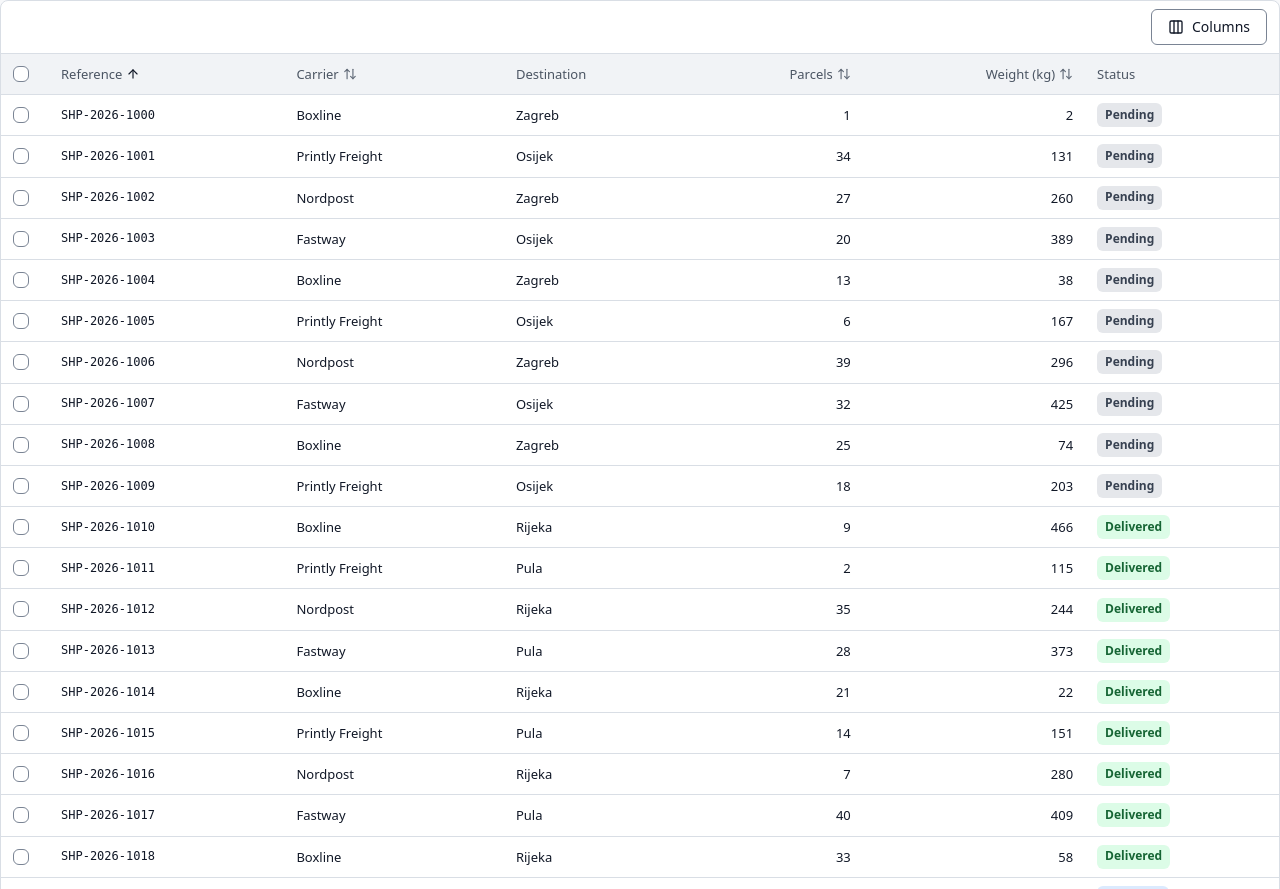
selection › labels each row checkbox and tracks the header state
Expected: the checkbox named "Select all rows on this page" in the row of "Destination" is not checked, [13,66,29,82]
Expected: the text "selected" is not shown
Click the checkbox named "Select SHP-2026-1000" next to "SHP-2026-1000": (21, 115) [13,107,29,123]
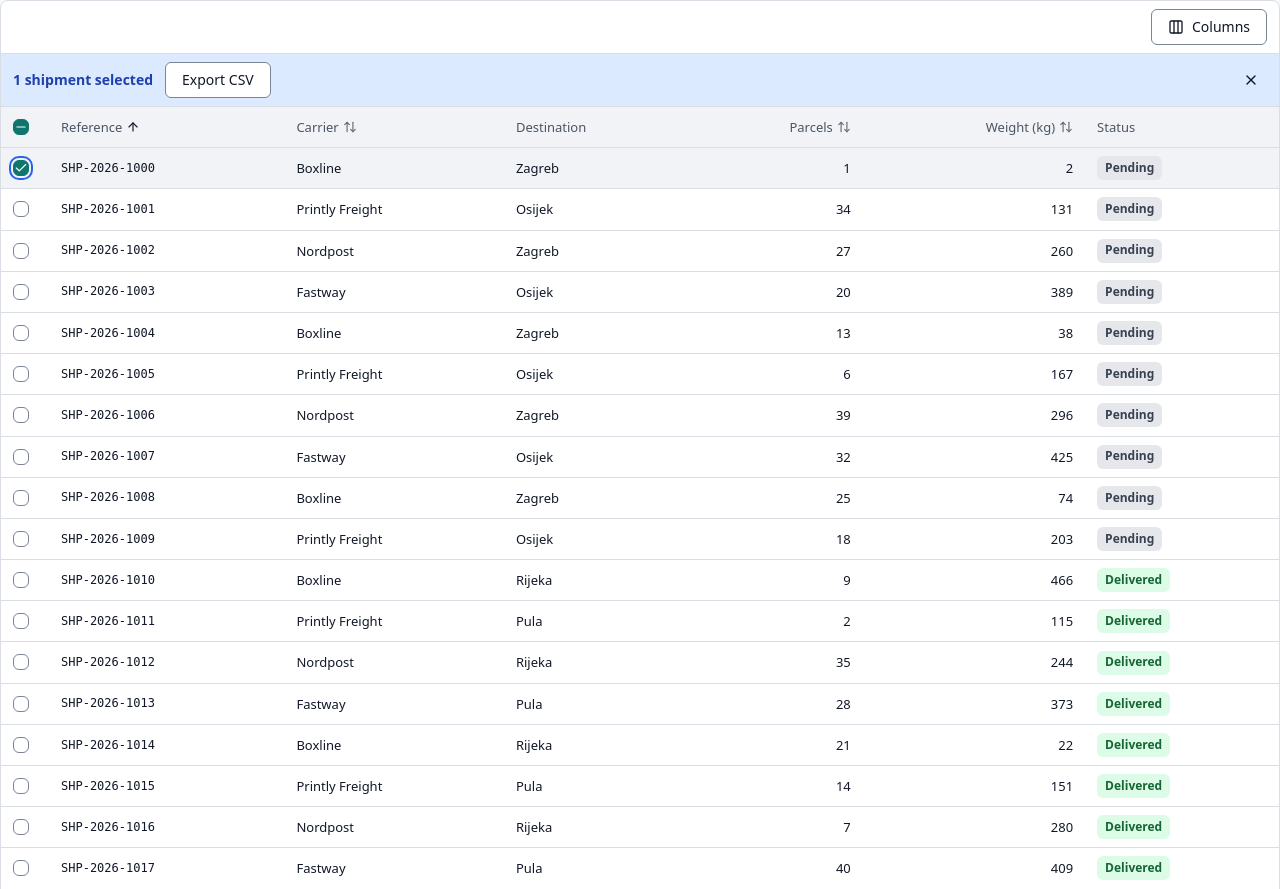
Click the checkbox named "Select SHP-2026-1003" next to "SHP-2026-1003": (21, 292) [13,284,29,300]
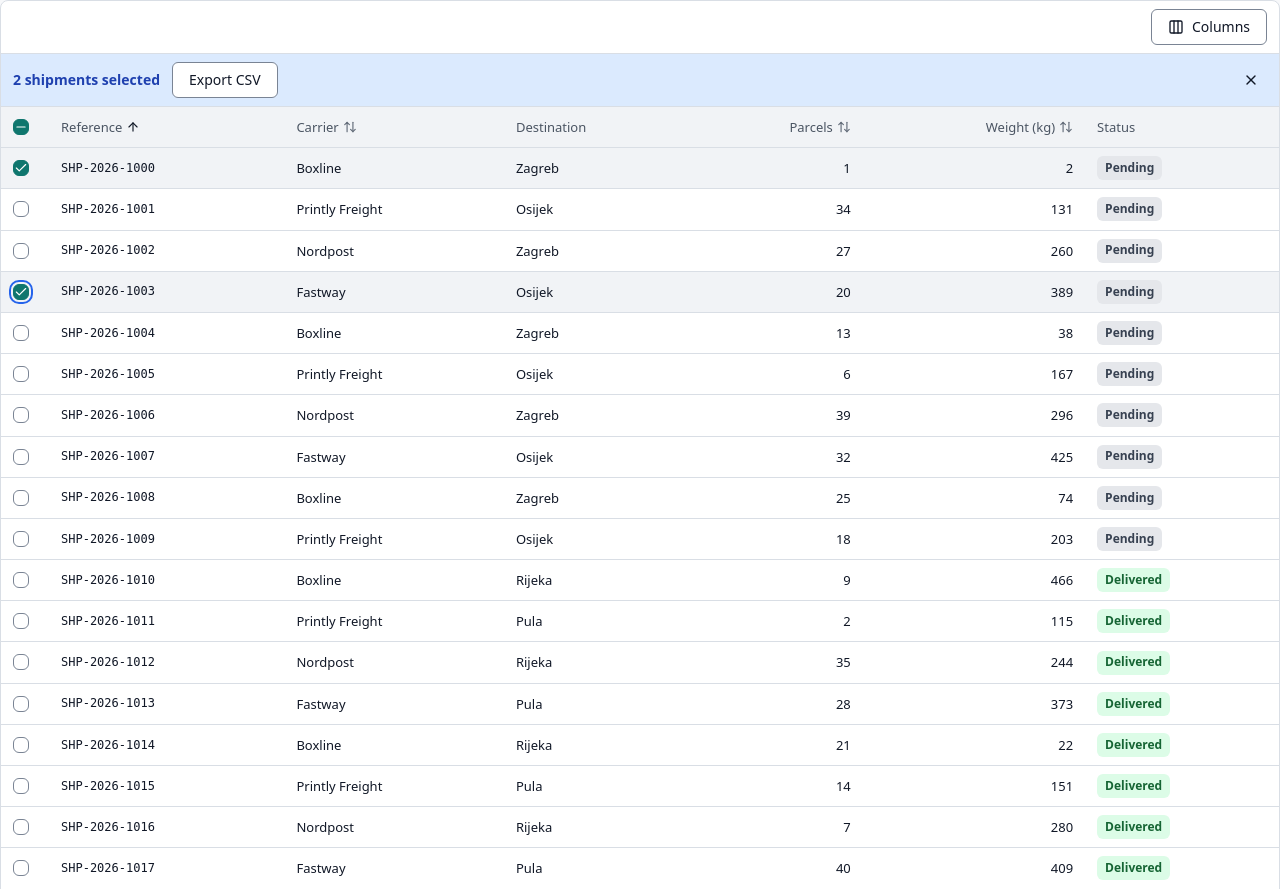
Result: the text "2 shipments selected" is shown at [13,70,160,90]
Click the button "Export CSV": (225, 80) [172,62,278,98]
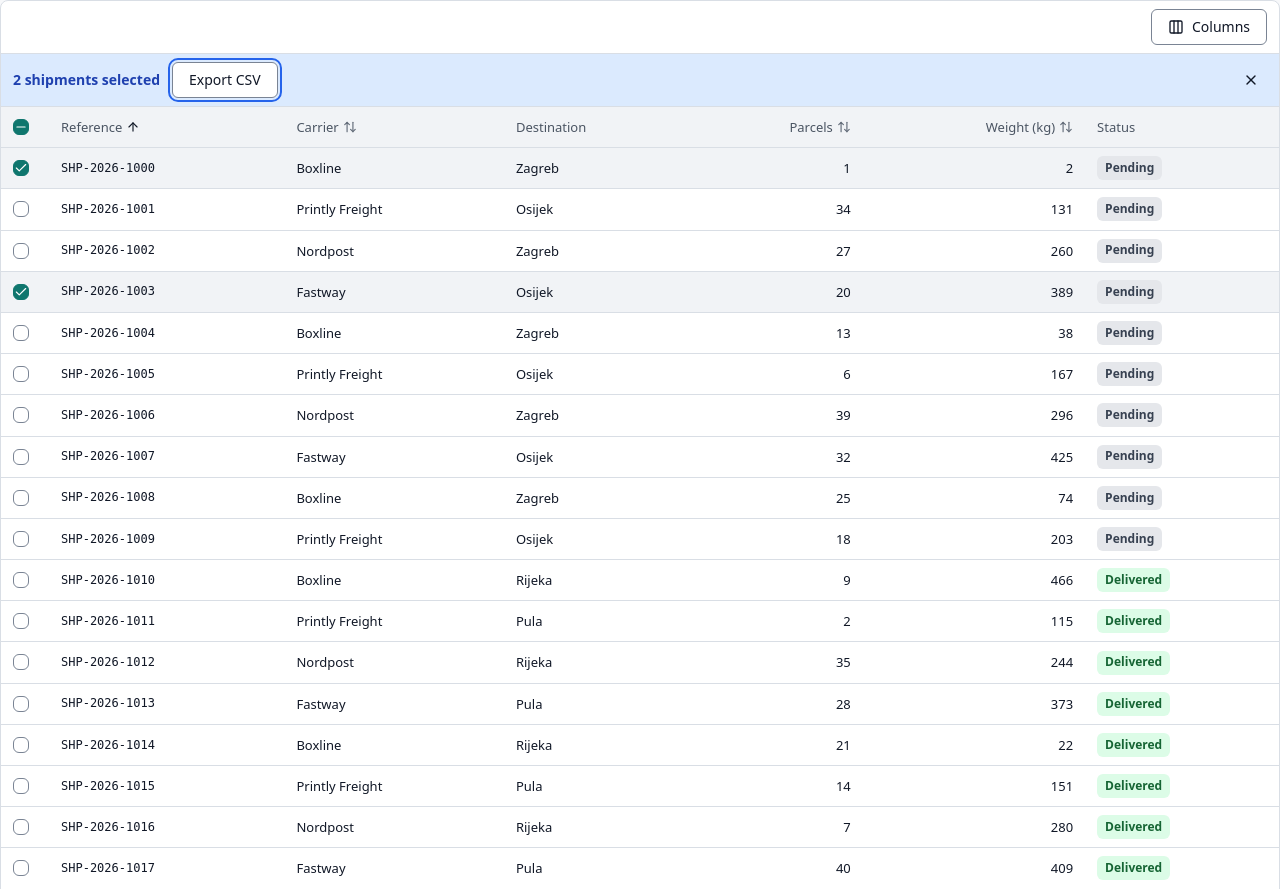
Click the checkbox named "Select all rows on this page" in the row of "Destination": (21, 127) [13,119,29,135]
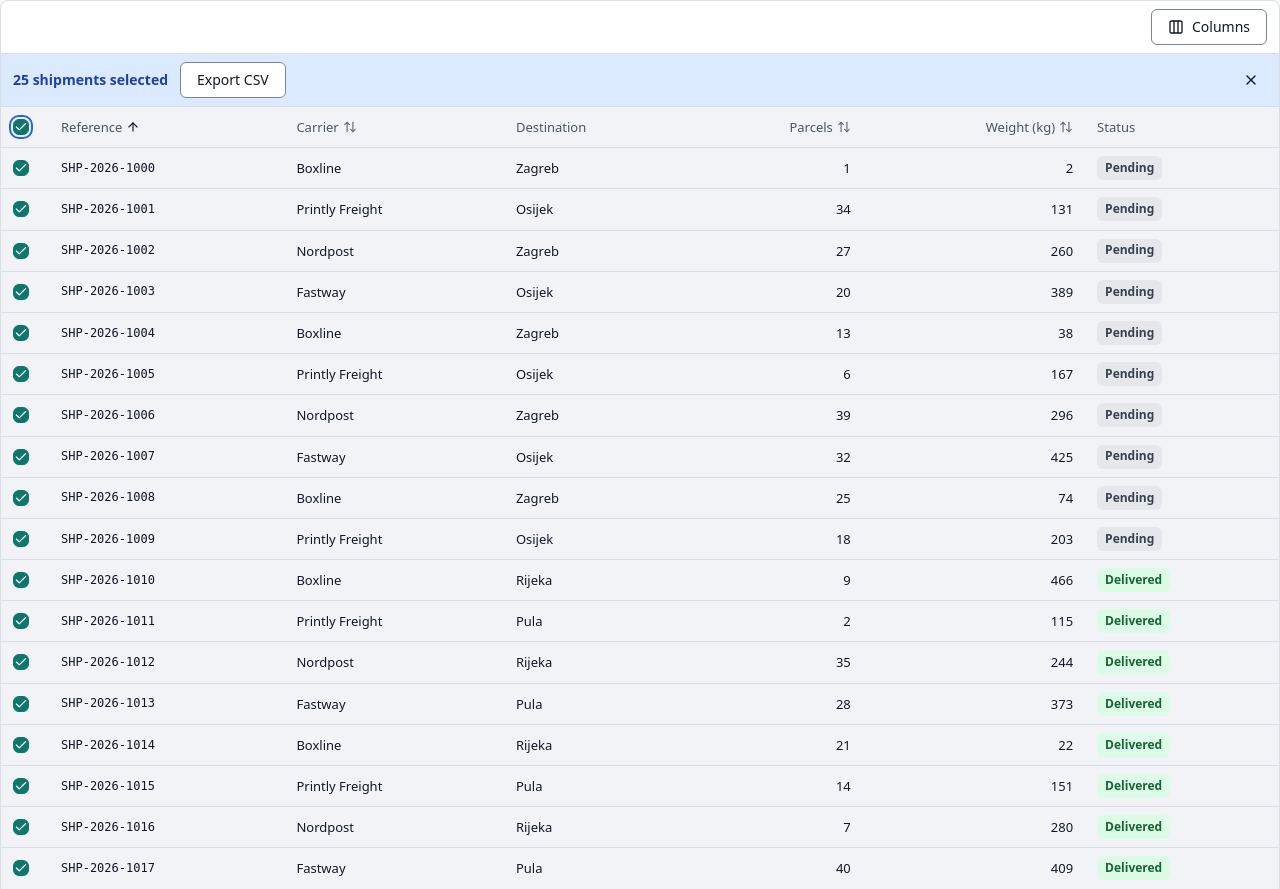
Result: the checkbox named "Select all rows on this page" in the row of "Destination" is checked
Result: the text "25 shipments selected" is shown at [13,70,168,90]
Click the checkbox named "Select all rows on this page" in the row of "Destination": (21, 127) [13,119,29,135]
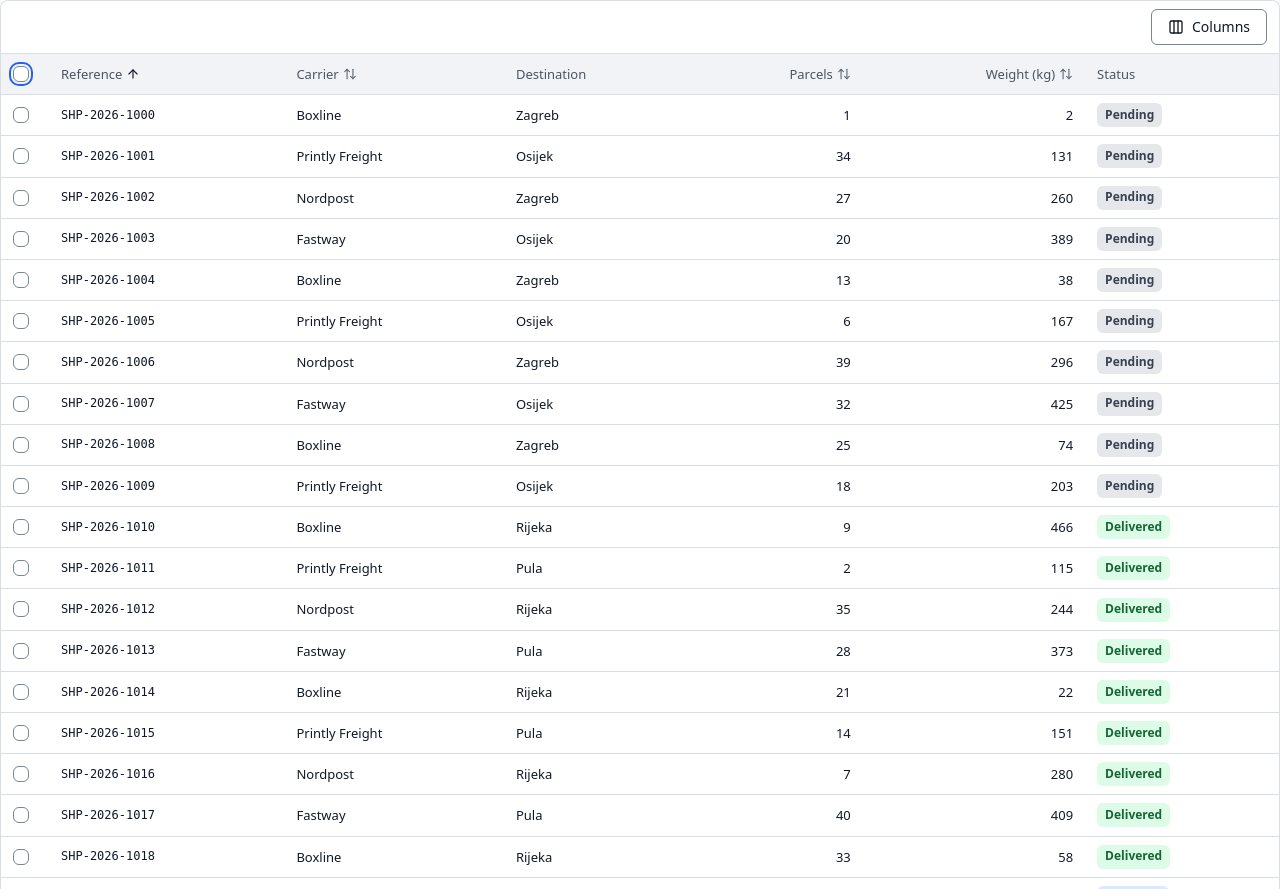
Result: the checkbox named "Select all rows on this page" in the row of "Destination" is not checked at [13,66,29,82]
Result: the text "selected" is gone
